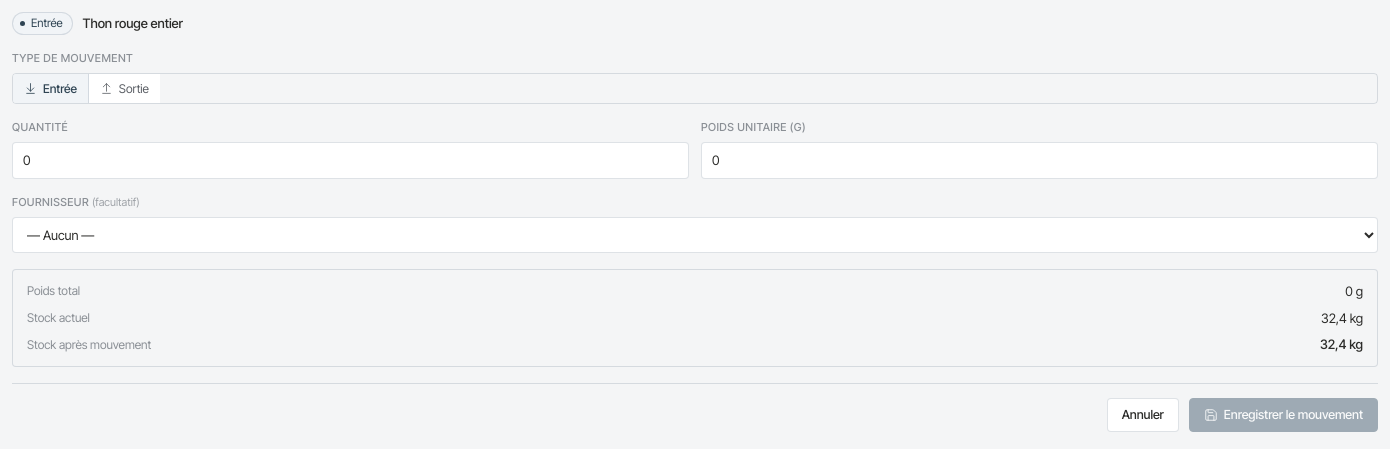
Scenario: ErpStockMovement — récapitulatif live › calcule le poids total = quantité × poids unitaire
The image size is (1390, 449).
Type "4" into the number field named "qty" at (350, 160), box [12,142,689,179]
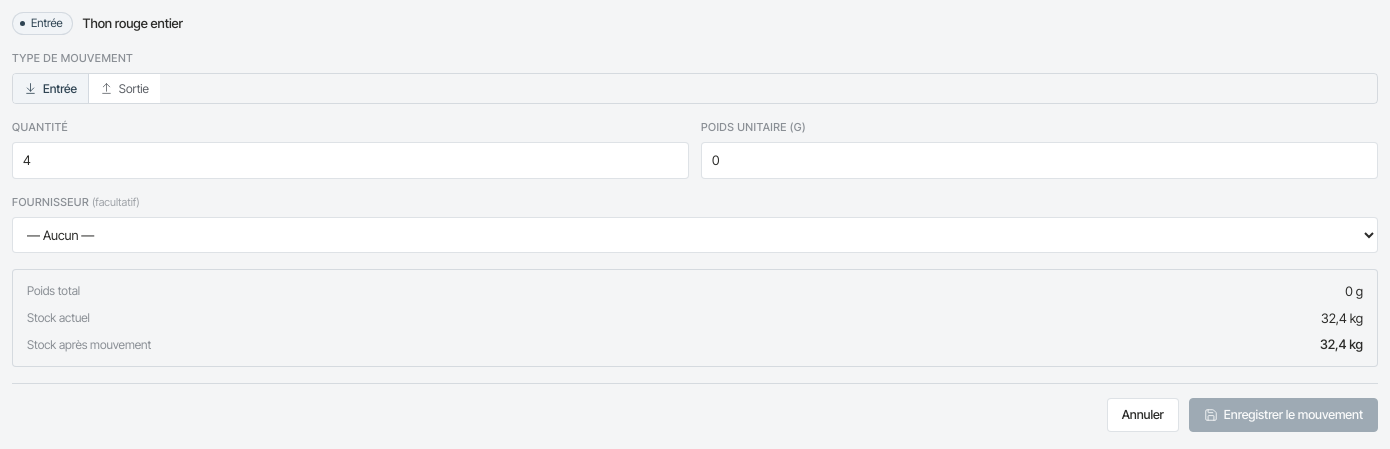
Type "800" into the number field named "unitWeight" at (1040, 160), box [701,142,1378,179]
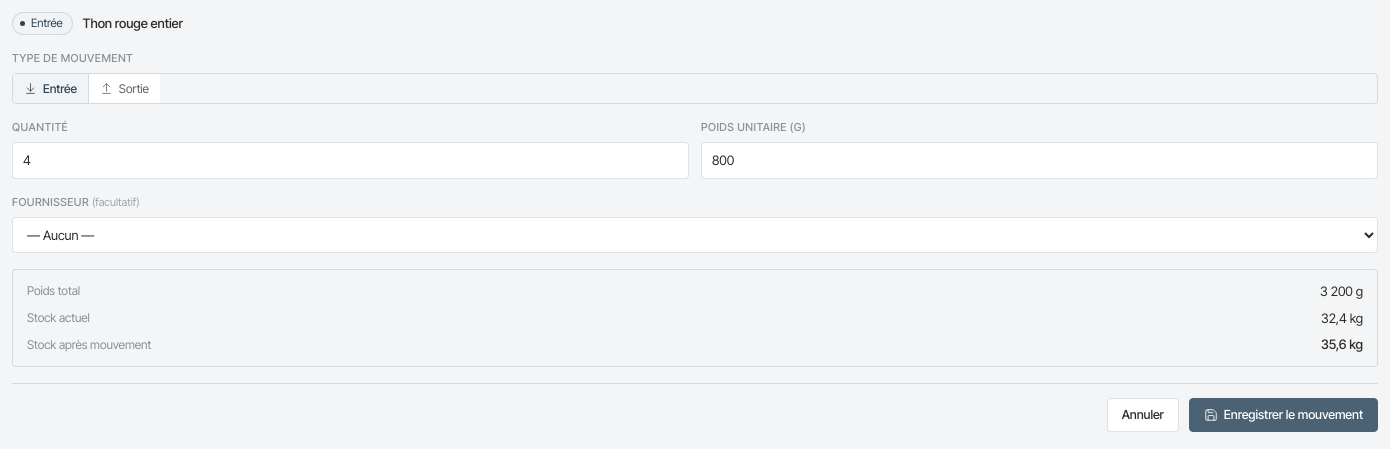
Expected: the text "3 200 g" is shown, [1320,282,1363,300]
